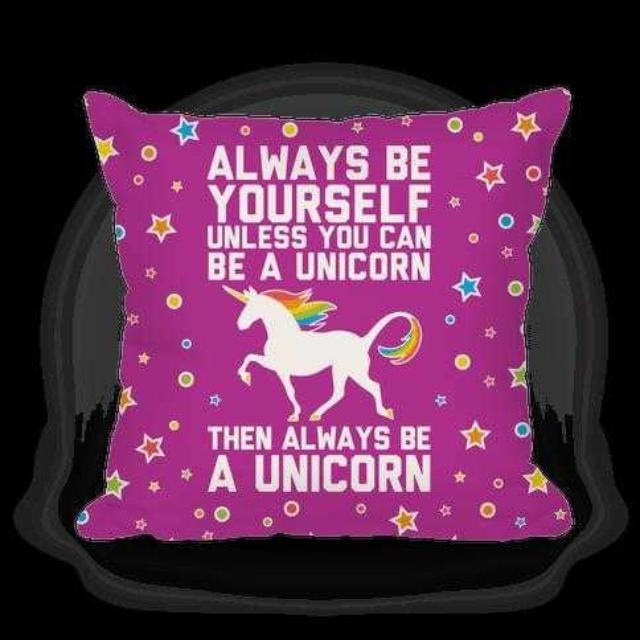pillow: (74, 82, 576, 544)
